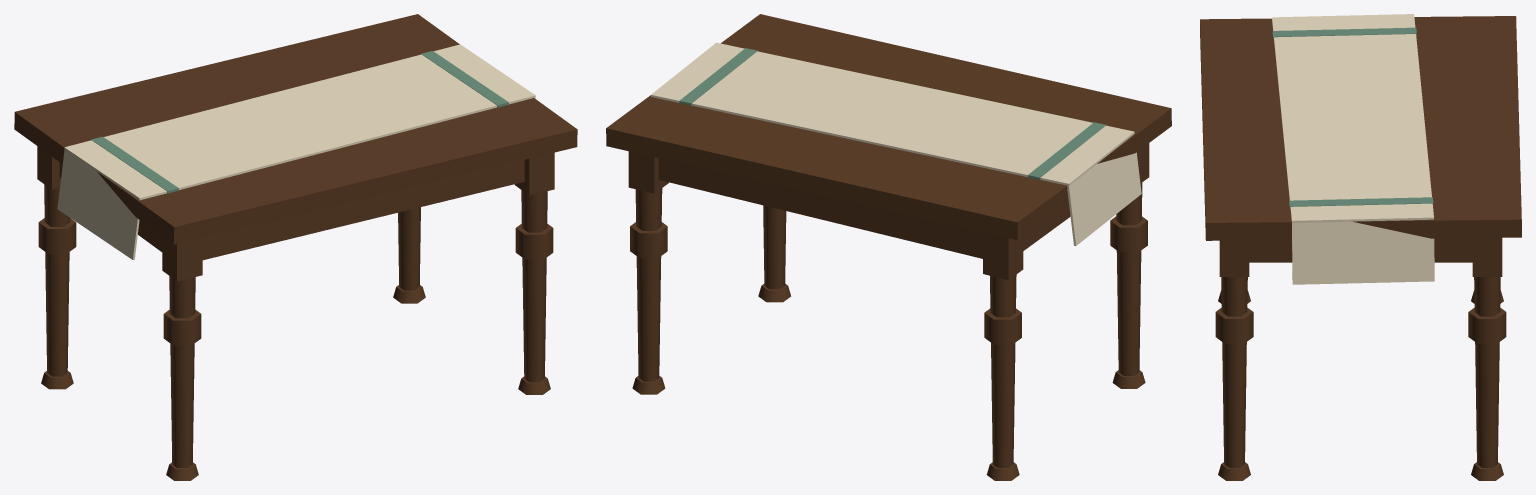
Rendered from Keukentafel.glb.
3 views of the same model, side by side, from view 1: azimuth 30°, elevation 25°; view 2: azimuth 150°, elevation 25°; view 3: azimuth 270°, elevation 25° (orthographic).
Parts seen in each view (by area): view 1: TableWood, Runner, RunnerStripes; view 2: TableWood, Runner, RunnerStripes; view 3: TableWood, Runner, RunnerStripes.
Boxes of the visible parts, <box> form: TableWood: <box>14,14,577,480</box>; Runner: <box>57,44,535,259</box>; RunnerStripes: <box>91,51,508,193</box>; TableWood: <box>606,14,1171,480</box>; Runner: <box>651,42,1141,245</box>; RunnerStripes: <box>679,48,1106,179</box>; TableWood: <box>1200,16,1521,480</box>; Runner: <box>1272,14,1434,284</box>; RunnerStripes: <box>1272,27,1433,208</box>.
Size of the model in its own units: 1.25 by 0.762 by 0.8147.
